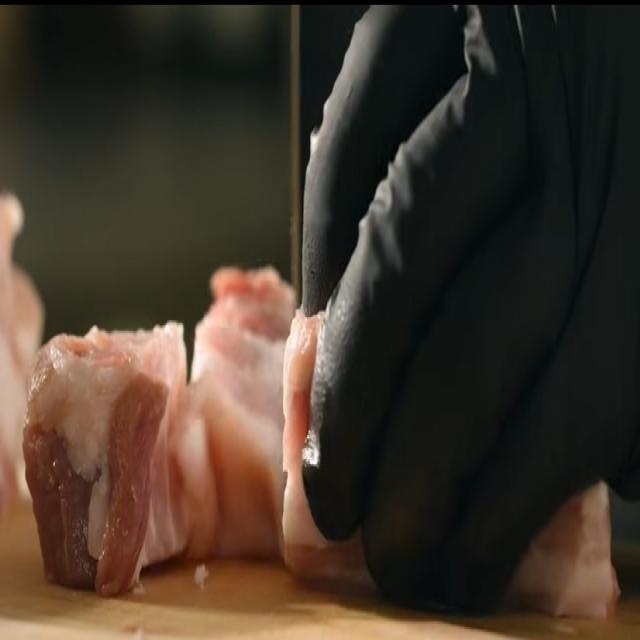pork: (27, 324, 163, 623), (186, 218, 294, 588)
